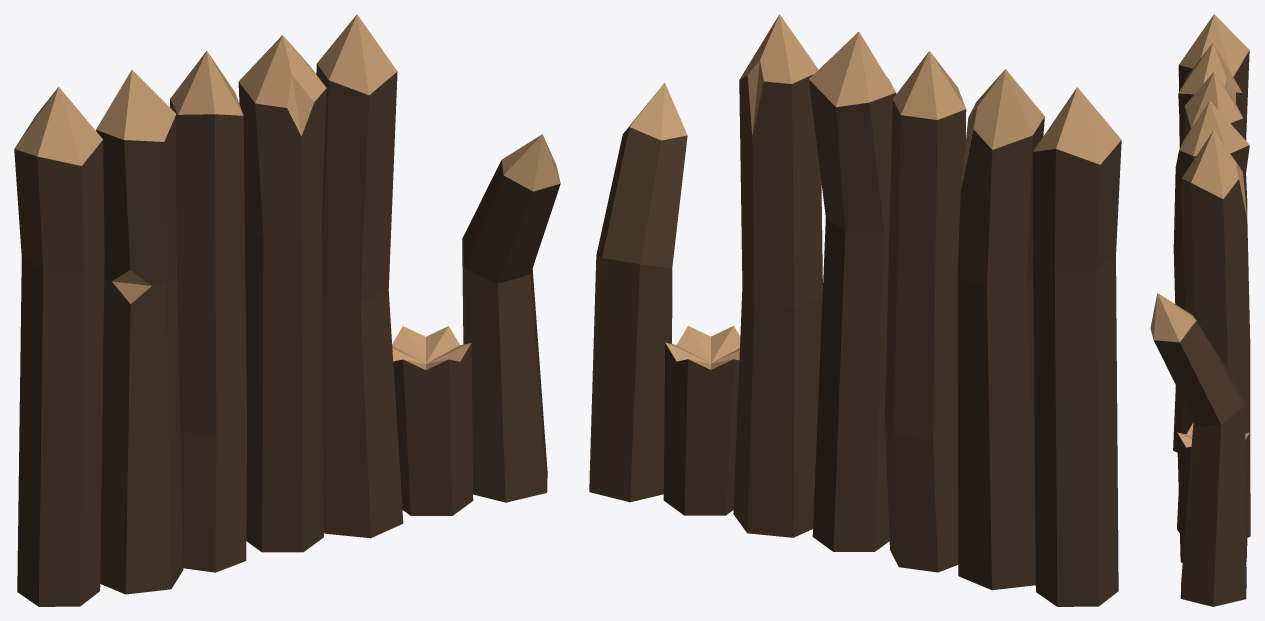
Rendered from Wallwood_2.fbx.
The picture shows the model from 3 angles, left to right: view 1: azimuth 30°, elevation 25°; view 2: azimuth 150°, elevation 25°; view 3: azimuth 270°, elevation 25°; orthographic projection. The views are drawn at different scales.
Parts seen in each view (by area): view 1: Wallwood_2; view 2: Wallwood_2; view 3: Wallwood_2.
Part boxes in pixels (bbox=[...]): Wallwood_2: bbox=[14, 14, 560, 606]; Wallwood_2: bbox=[589, 14, 1121, 606]; Wallwood_2: bbox=[1150, 14, 1250, 606].
Bounding box in the file's own units: 122 × 113 × 25.34.
